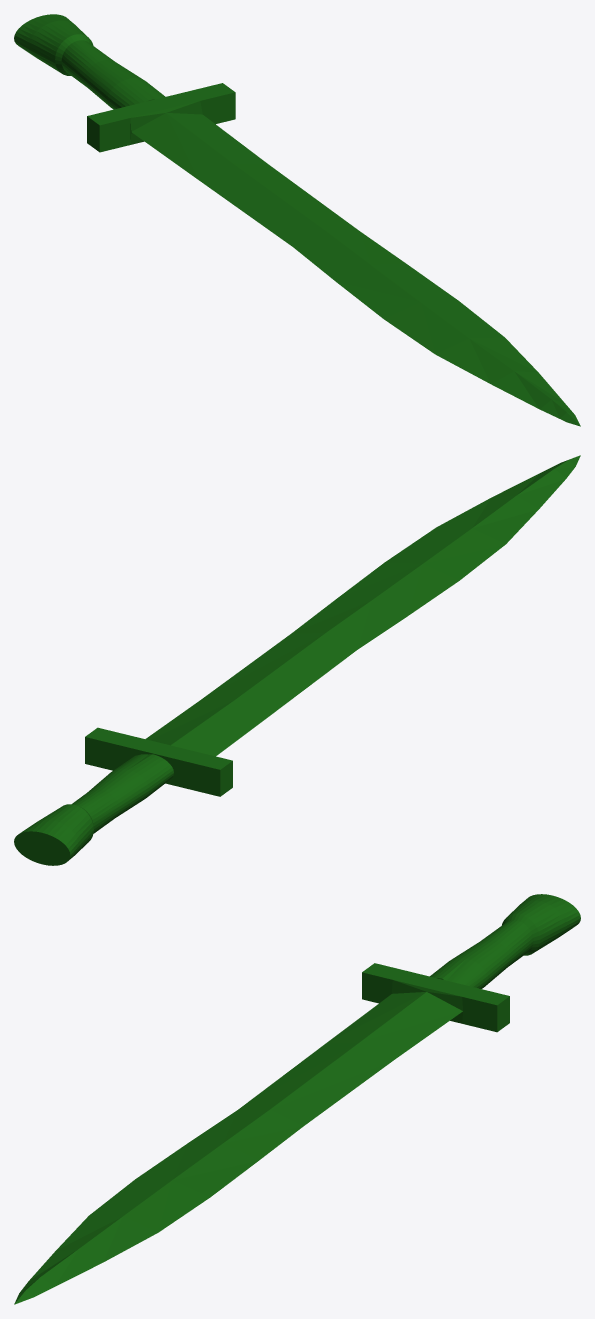
Rendered from Sword2.obj.
The picture shows the model from 3 angles, top to bottom: view 1: azimuth 30°, elevation 25°; view 2: azimuth 150°, elevation 25°; view 3: azimuth 330°, elevation 25°; orthographic projection.
Parts seen in each view (by area): view 1: default; view 2: default; view 3: default.
Boxes of the visible parts, <box> form: default: <box>14,14,580,426</box>; default: <box>14,455,580,865</box>; default: <box>14,894,580,1304</box>.
Bounding box in the file's own units: 0.2957 × 0.085 × 2.04.
